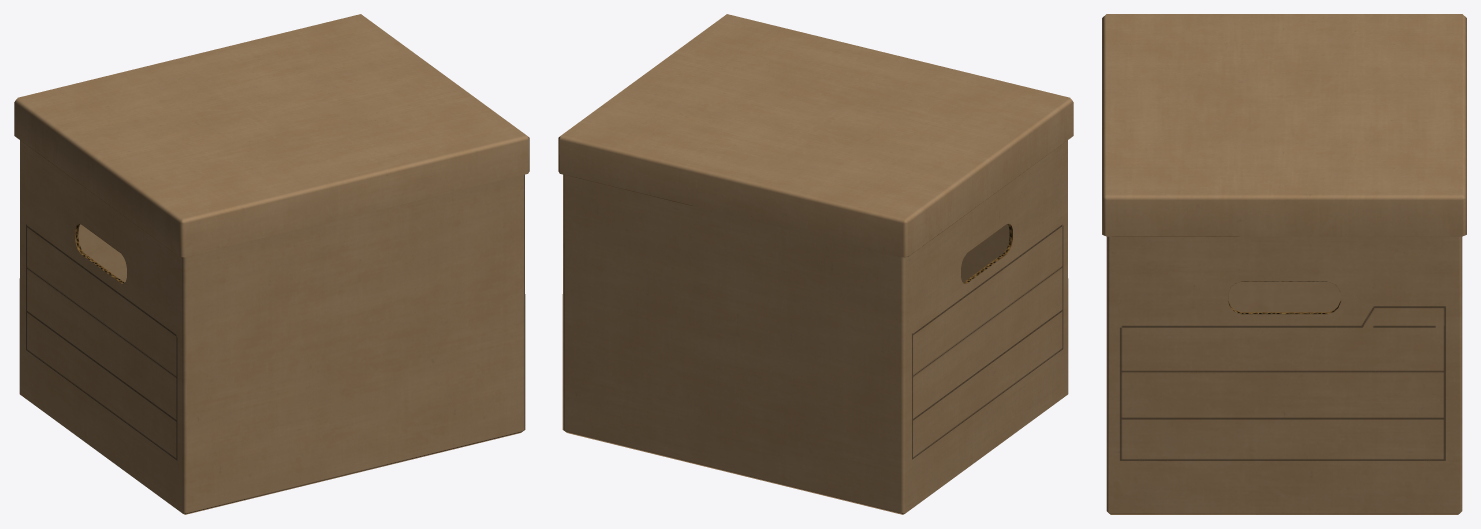
File: SM_FilingBox_01.FBX
The picture shows the model from 3 angles, left to right: view 1: azimuth 30°, elevation 25°; view 2: azimuth 150°, elevation 25°; view 3: azimuth 270°, elevation 25°; orthographic projection. The views are drawn at different scales.
Visible parts, largest first — view 1: FilingBox_01; view 2: FilingBox_01; view 3: FilingBox_01.
Boxes of the visible parts, x1,y1,x2,y2 form: FilingBox_01: [14, 14, 529, 514]; FilingBox_01: [558, 14, 1073, 514]; FilingBox_01: [1102, 14, 1466, 514].
Size of the model in its own units: 30.66 by 25.01 by 25.66.
